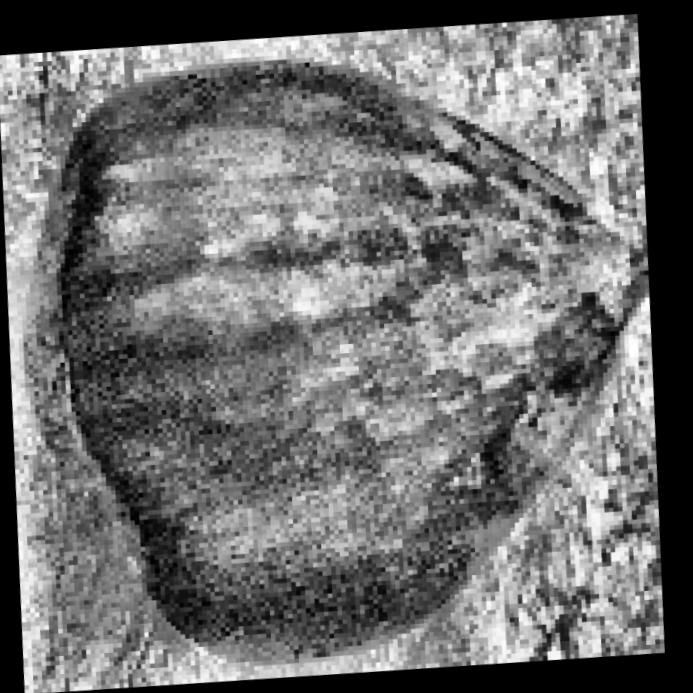damagedHazelnut: (0, 4, 693, 693)
